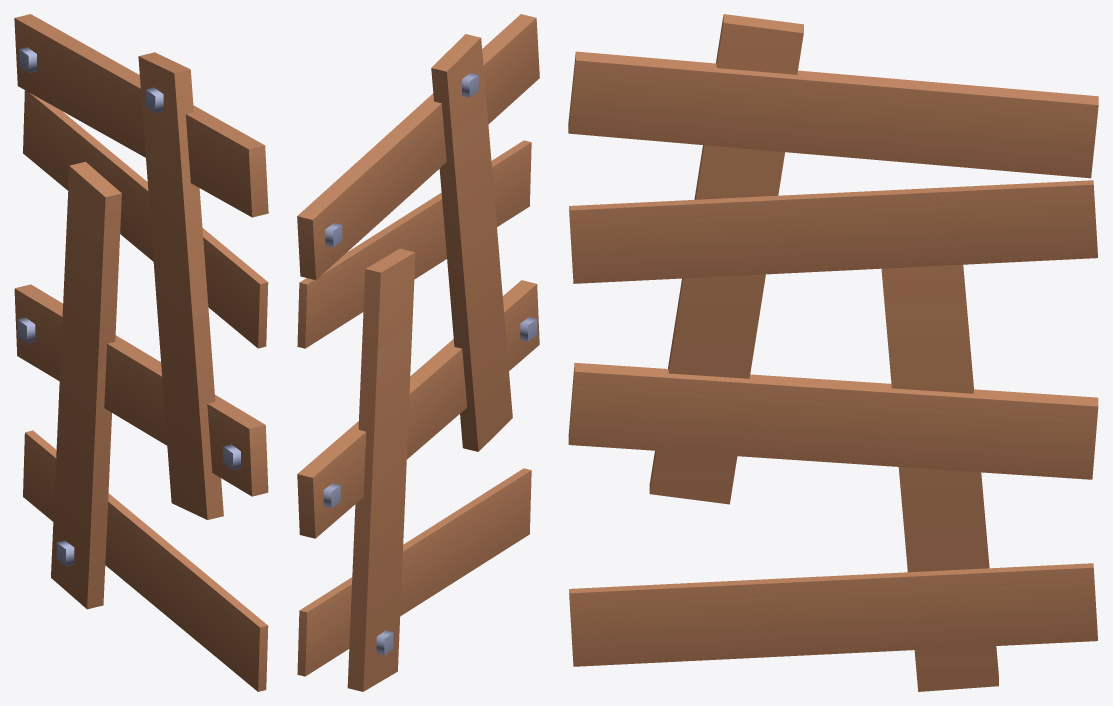
Rendered from barricade-doorway-c.optimized.glb.
The picture shows the model from 3 angles, left to right: view 1: azimuth 30°, elevation 25°; view 2: azimuth 150°, elevation 25°; view 3: azimuth 270°, elevation 25°; orthographic projection. The views are drawn at different scales.
Parts seen in each view (by area): view 1: barricade-doorway-c; view 2: barricade-doorway-c; view 3: barricade-doorway-c.
Part boxes in pixels (x1,y1,x2,y2): barricade-doorway-c: (14,14,268,691); barricade-doorway-c: (297,14,539,691); barricade-doorway-c: (568,14,1098,691).
Bounding box in the file's own units: 0.1 × 1.75 × 1.26.
1 material, 1 textured.
